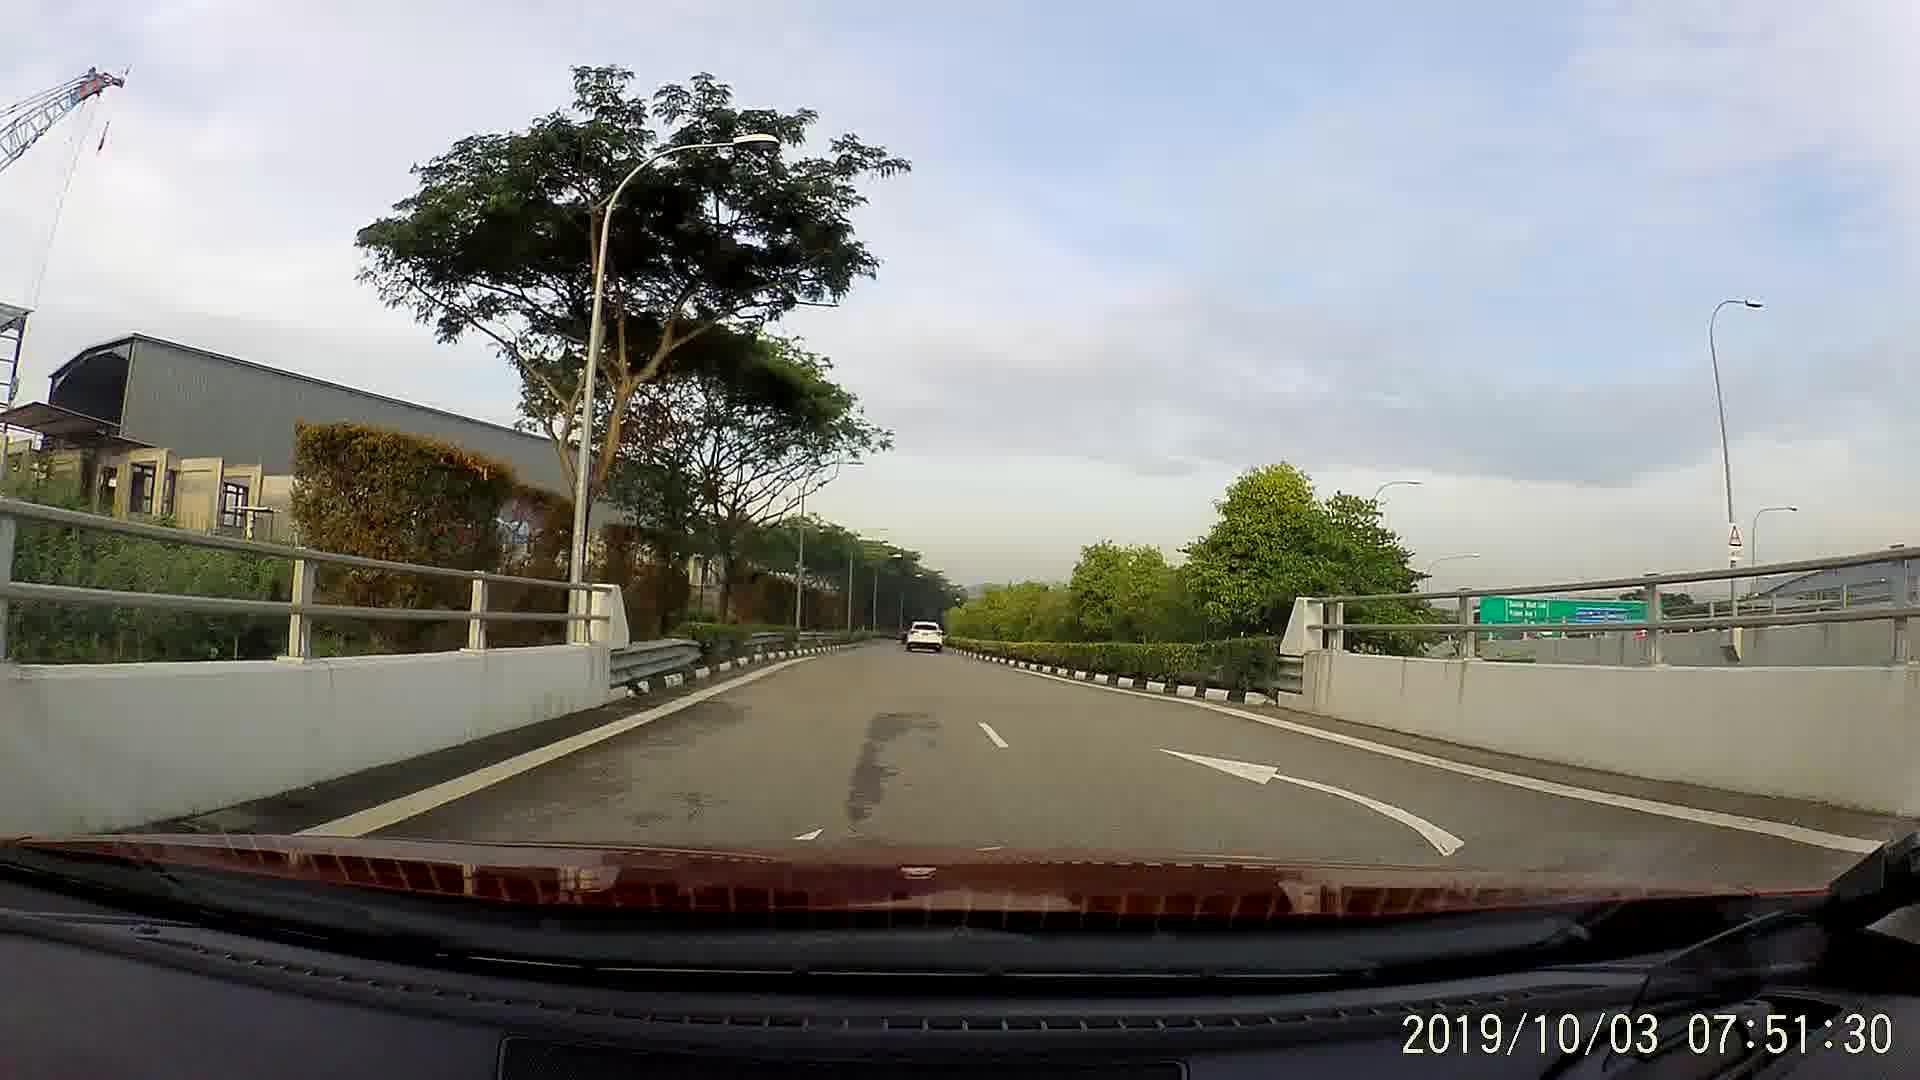car: (905, 617, 944, 650)
